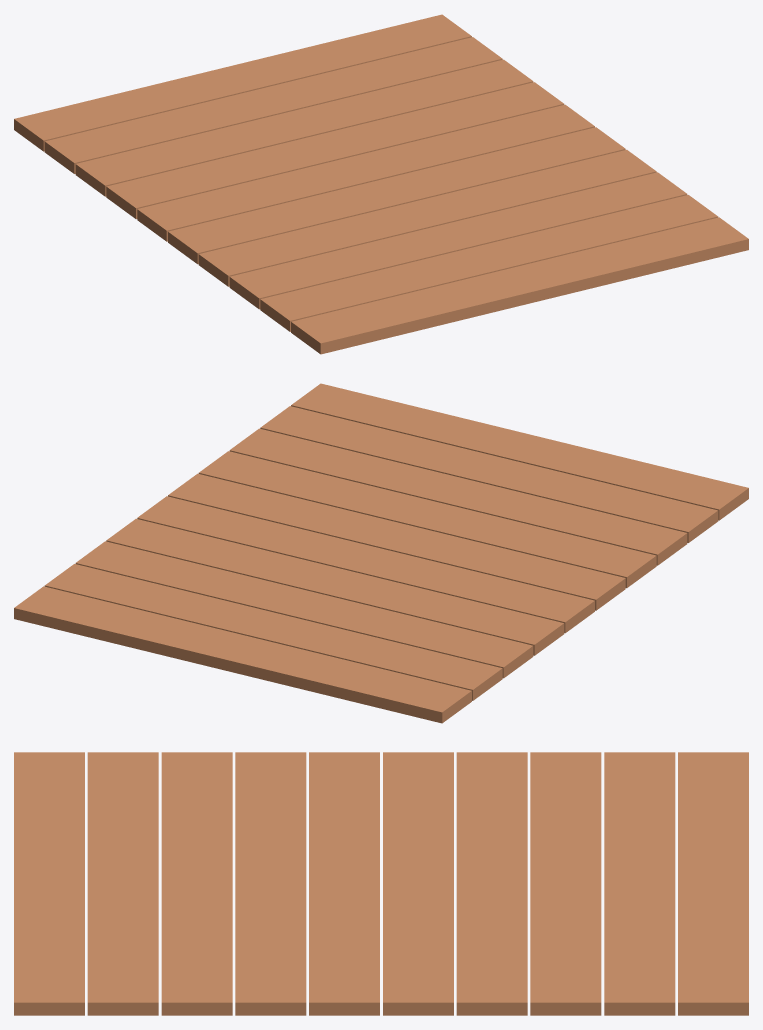
Rendered from Floor1.fbx.
3 renders of one model, top to bottom at view 1: azimuth 30°, elevation 25°; view 2: azimuth 150°, elevation 25°; view 3: azimuth 270°, elevation 25°, orthographic. The views are drawn at different scales.
Parts seen in each view (by area): view 1: Cube.001; view 2: Cube.001; view 3: Cube.001.
Boxes of the visible parts, x1,y1,x2,y2 form: Cube.001: [14, 14, 748, 354]; Cube.001: [14, 383, 748, 723]; Cube.001: [14, 752, 748, 1015].
Size of the model in its own units: 664 by 16.39 by 824.
